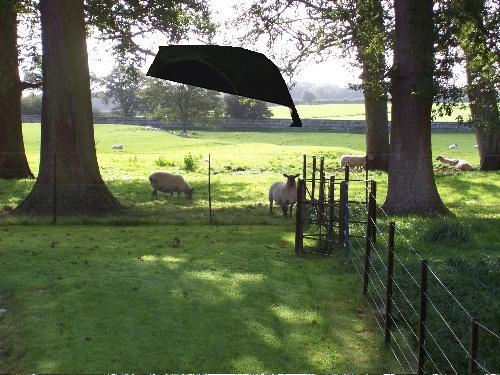tampered: (147, 46, 302, 127)
